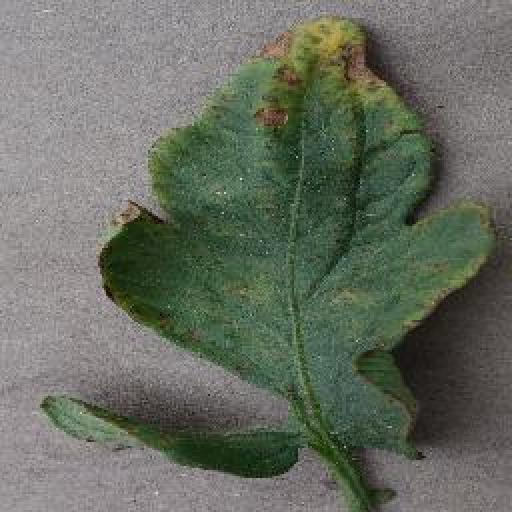Bacterial Spot: (90, 10, 504, 474)
